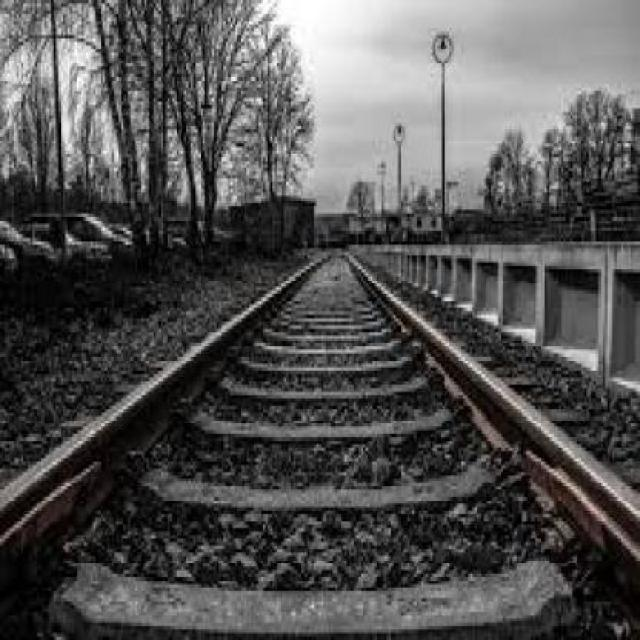rail: (6, 234, 636, 638)
